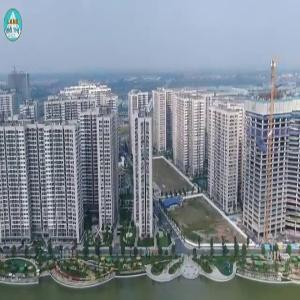drone: (242, 115, 294, 167)
